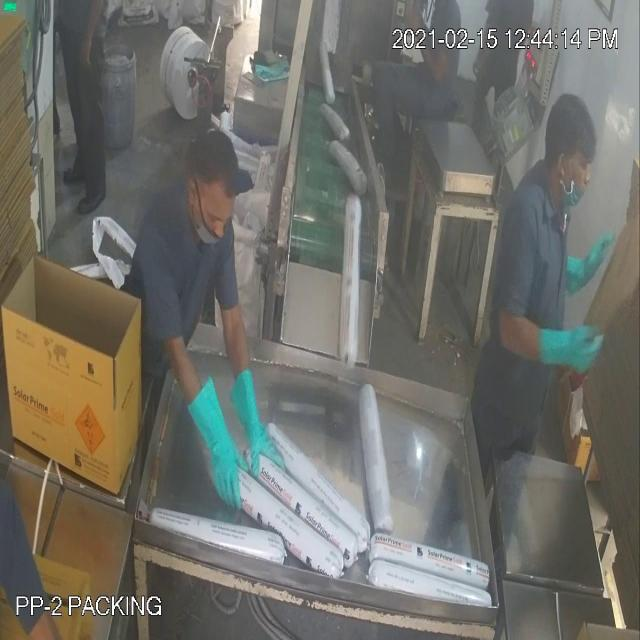gloves: (181, 367, 249, 522), (215, 355, 290, 488), (530, 306, 610, 386), (562, 215, 618, 308)
no-gloves: (408, 2, 454, 81), (69, 1, 111, 82)
